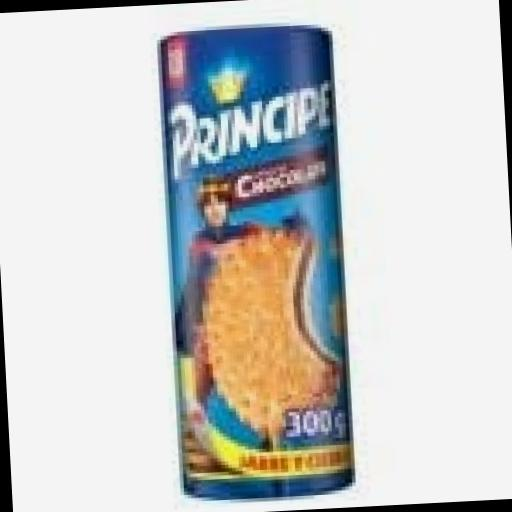prince: (114, 16, 416, 512)
